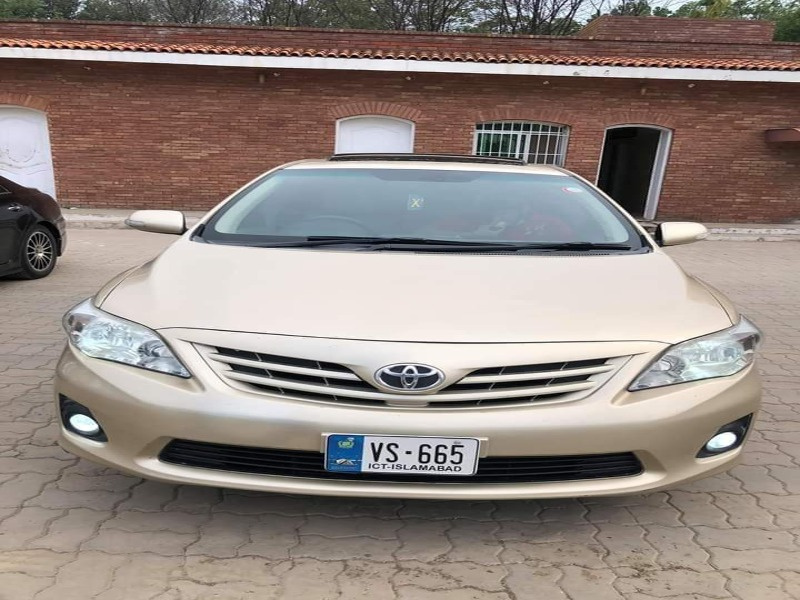License Plate: (321, 427, 487, 481)
